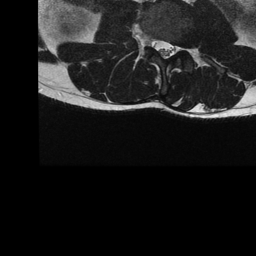CCS_normal: (161, 32, 169, 64)
LFS_stenosis: (178, 34, 186, 59)
LLS_normal: (169, 33, 178, 61)
RFS_normal: (144, 26, 152, 53)
RLS_normal: (152, 30, 161, 59)
